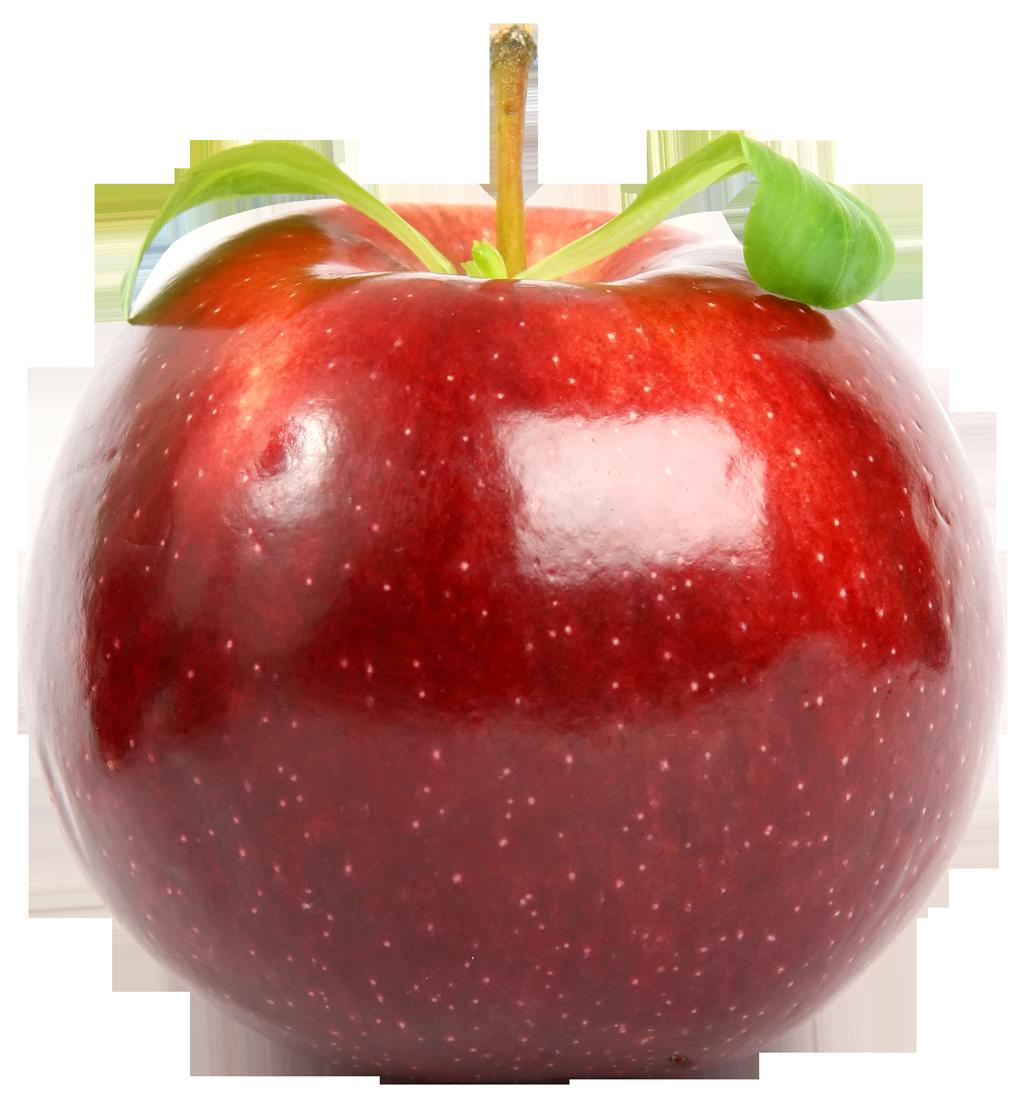Apple: (59, 128, 1010, 1089)
